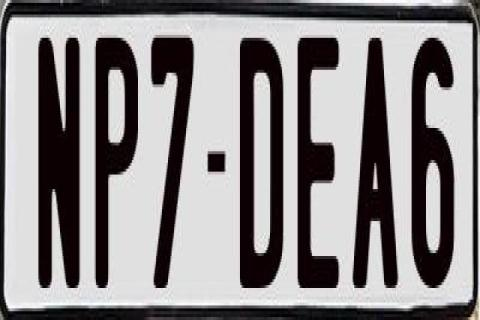0: (408, 29, 456, 294), (148, 35, 196, 285)
A: (350, 29, 396, 288)
D: (239, 38, 287, 288)
E: (296, 38, 338, 288)
N: (35, 35, 77, 297)
P: (92, 29, 142, 285)
